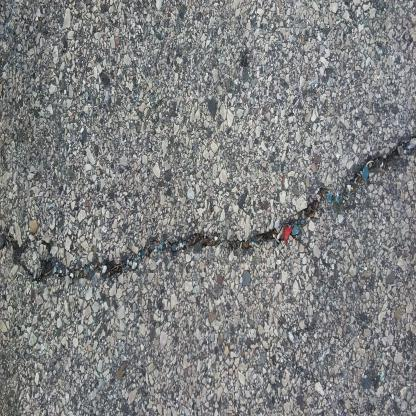Cracks: (1, 129, 416, 291)
